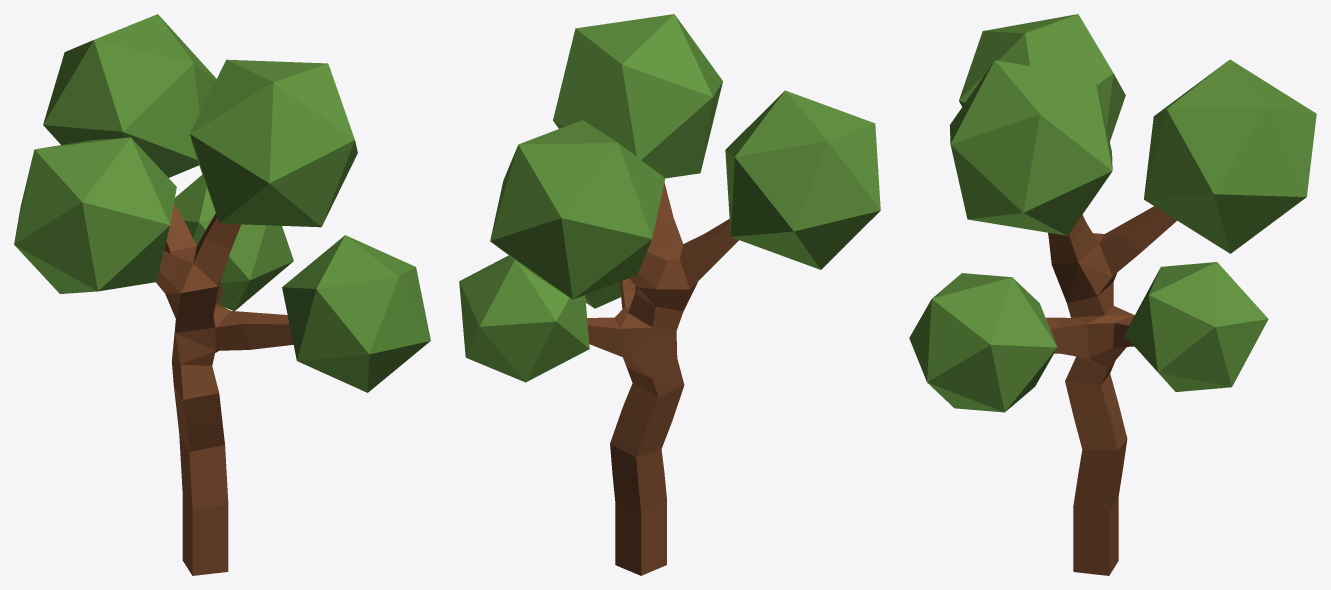
File: fucked up looking tree.fbx
3 renders of one model, left to right at view 1: azimuth 30°, elevation 25°; view 2: azimuth 150°, elevation 25°; view 3: azimuth 270°, elevation 25°, orthographic.
Visible parts, largest first — view 1: tree 3; view 2: tree 3; view 3: tree 3.
Boxes of the visible parts, x1=… form: tree 3: x1=14, y1=14, x2=430, y2=575; tree 3: x1=459, y1=14, x2=880, y2=575; tree 3: x1=909, y1=14, x2=1316, y2=575.
Size of the model in its own units: 5.81 by 7.67 by 5.5.
